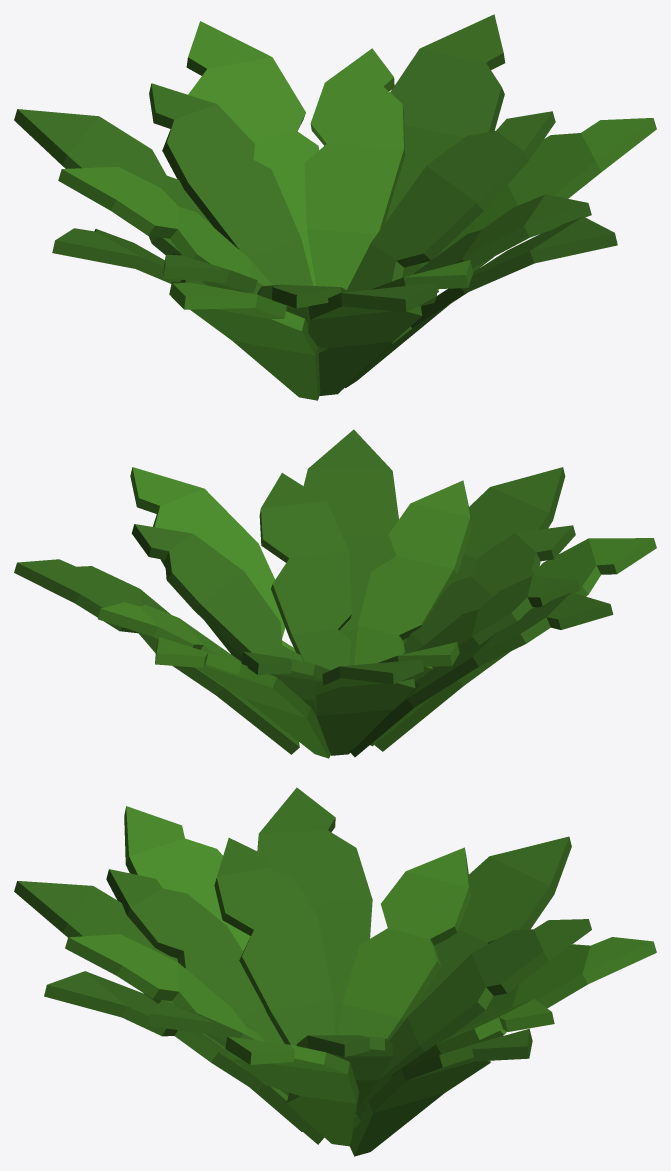
File: Папороть.fbx
3 renders of one model, top to bottom at view 1: azimuth 30°, elevation 25°; view 2: azimuth 150°, elevation 25°; view 3: azimuth 270°, elevation 25°, orthographic. The views are drawn at different scales.
Visible parts, largest first — view 1: fern_LOD_0; view 2: fern_LOD_0; view 3: fern_LOD_0.
Part boxes in pixels (x1,y1,x2,y2): fern_LOD_0: [14, 14, 656, 400]; fern_LOD_0: [14, 429, 656, 758]; fern_LOD_0: [14, 787, 656, 1156].
Bounding box in the file's own units: 6718 × 2493 × 6815.
